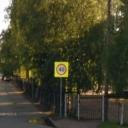speed_limit_40: (54, 63, 66, 76)
